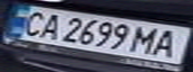2: (57, 15, 84, 45)
6: (75, 17, 100, 47)
9: (109, 21, 133, 52), (93, 19, 115, 49)
A: (148, 28, 187, 58), (33, 11, 66, 42)
C: (12, 8, 51, 37)
M: (127, 25, 163, 56)
